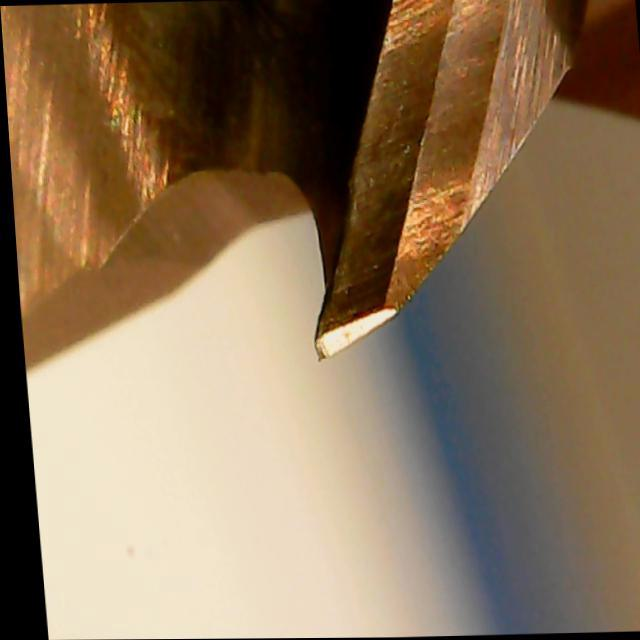Tool-wear-class-1: (274, 68, 480, 374)
